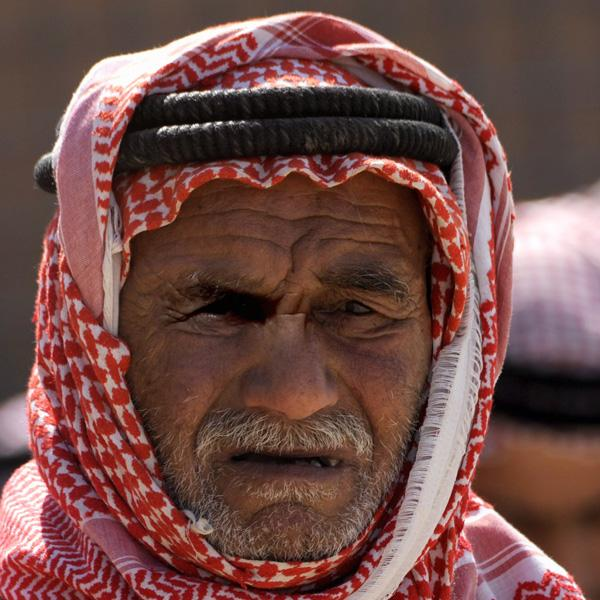Eyes: (161, 283, 279, 337), (309, 285, 411, 334)
